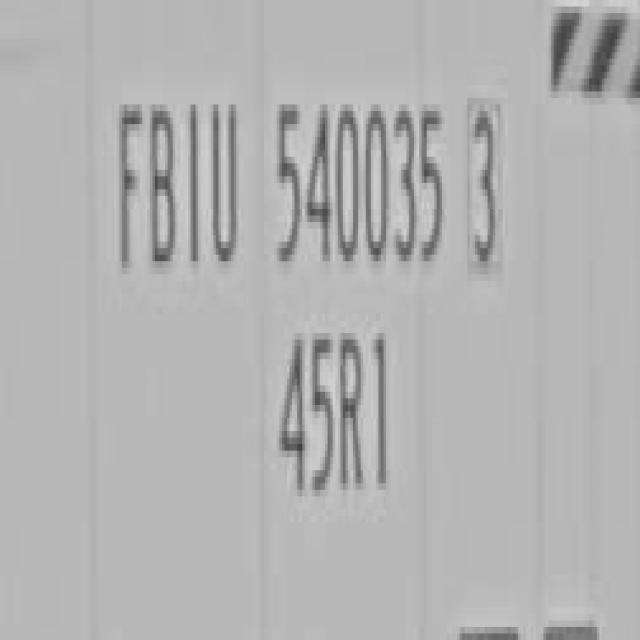dv: (462, 94, 513, 278)
owner: (109, 77, 246, 290)
serial: (266, 79, 444, 288)
size: (276, 319, 398, 518)
